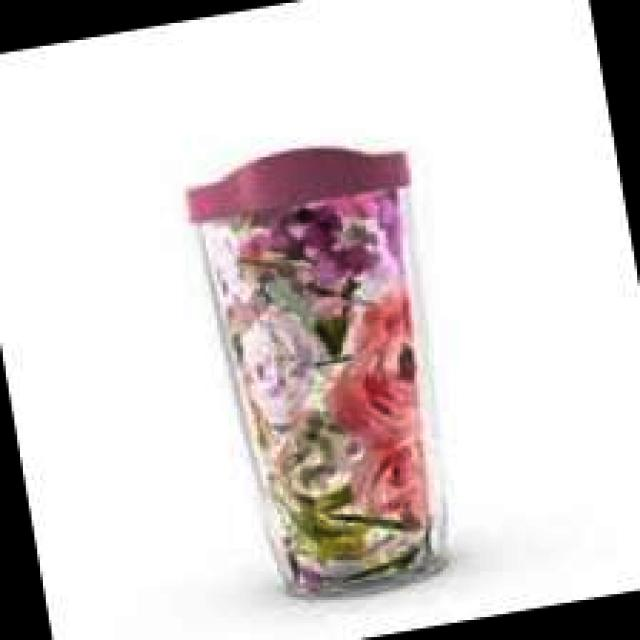bottle: (171, 124, 486, 622)
